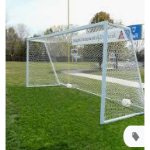goals: (25, 19, 145, 125)
